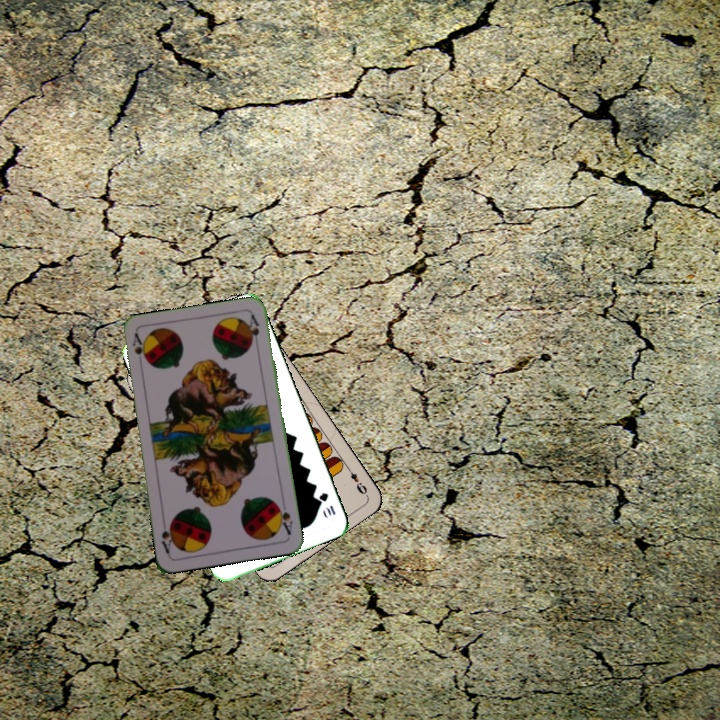E9: (343, 462, 370, 498)
G10: (315, 489, 338, 518)
SA: (273, 497, 295, 538), (128, 330, 148, 362)
